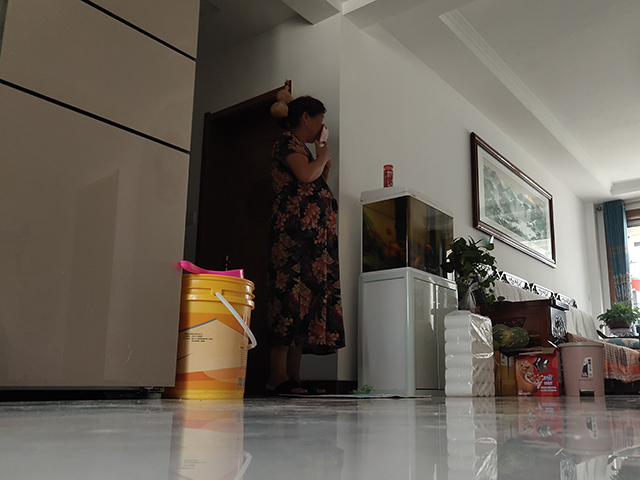cabinet: (358, 264, 451, 399)
carpet: (276, 391, 432, 399)
sofa: (454, 257, 640, 396)
trashcan: (557, 340, 608, 400)
